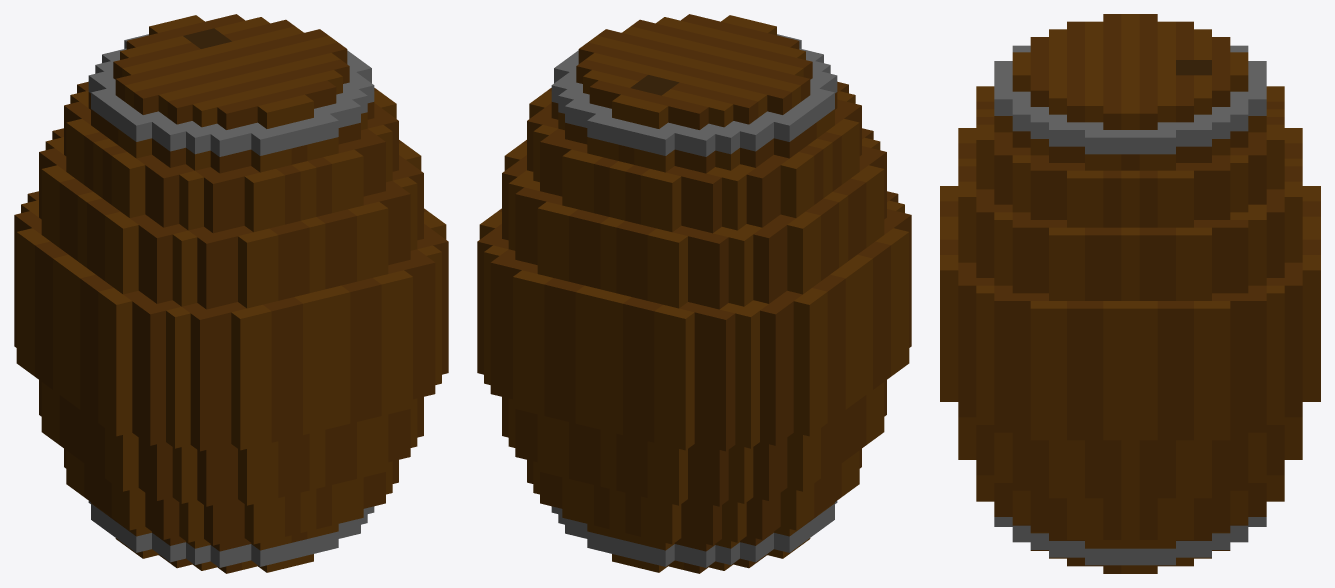
Rendered from Barrel.fbx.
The picture shows the model from 3 angles, left to right: view 1: azimuth 30°, elevation 25°; view 2: azimuth 150°, elevation 25°; view 3: azimuth 270°, elevation 25°; orthographic projection.
Visible parts, largest first — view 1: root; view 2: root; view 3: root.
Boxes of the visible parts, x1=… form: root: x1=14, y1=14, x2=448, y2=573; root: x1=477, y1=14, x2=911, y2=573; root: x1=940, y1=14, x2=1320, y2=573.
Bounding box in the file's own units: 0.384 × 0.512 × 0.384.
1 material, 1 textured.
